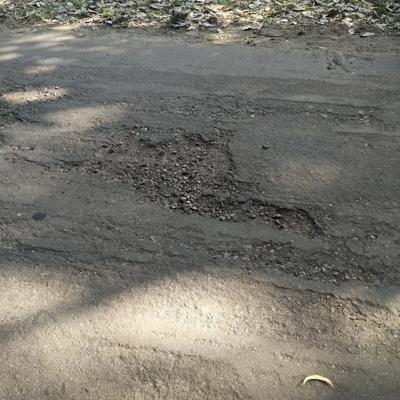Pothole: (19, 87, 342, 254)
